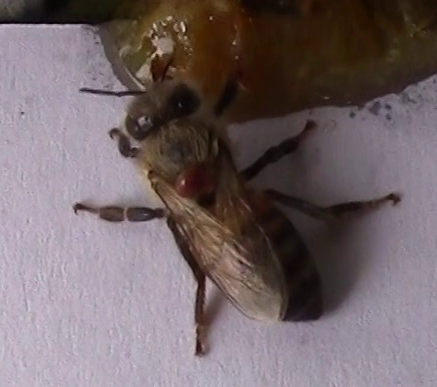Varroa destructor: (171, 159, 216, 201)
